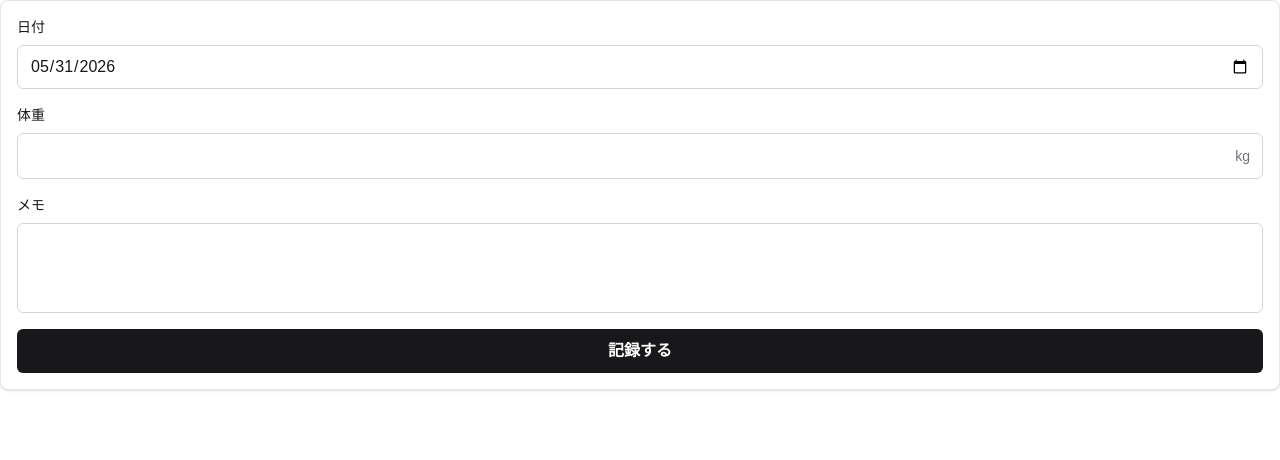
Test: WeightRecordRegistrationForm › saves a weight record on submit
Type "2026-05-30" into the date field labelled "日付" at coordinates (640, 67), box [17,45,1263,89]
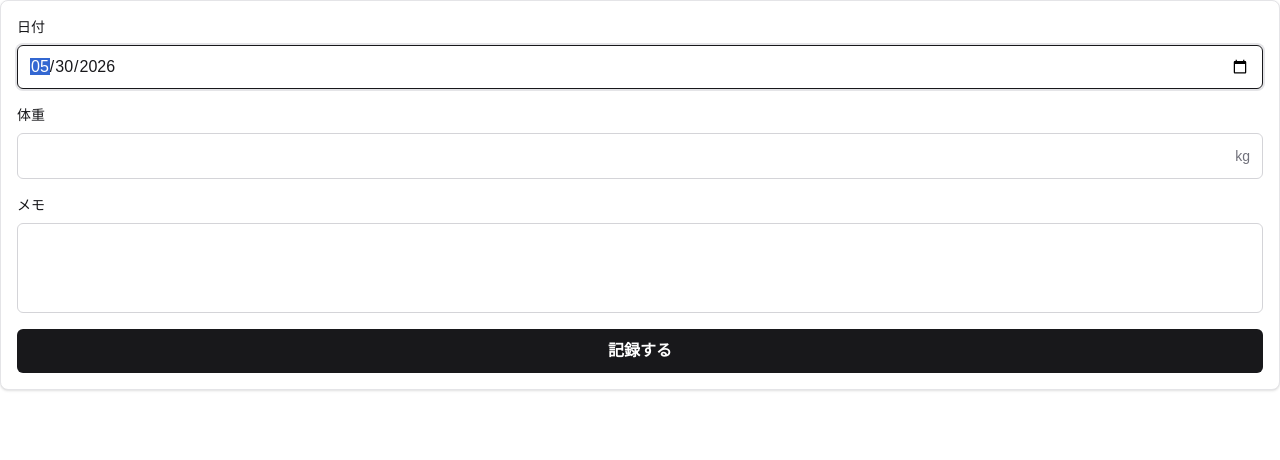
Type "80.1" into the number field labelled "体重" at coordinates (627, 156), box [18,134,1235,178]
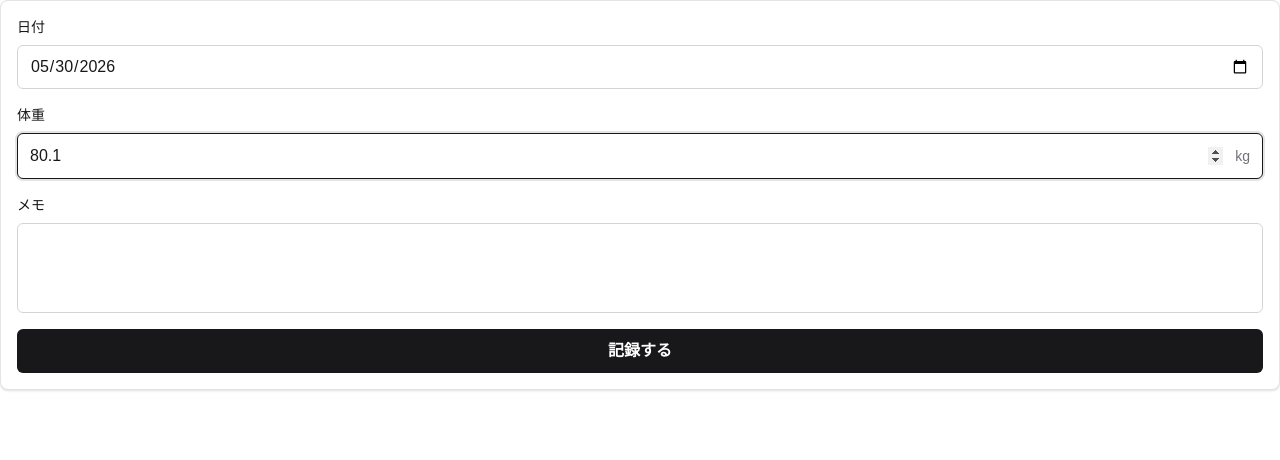
Type "朝食前" into the text box labelled "メモ" at coordinates (640, 268), box [17,223,1263,313]
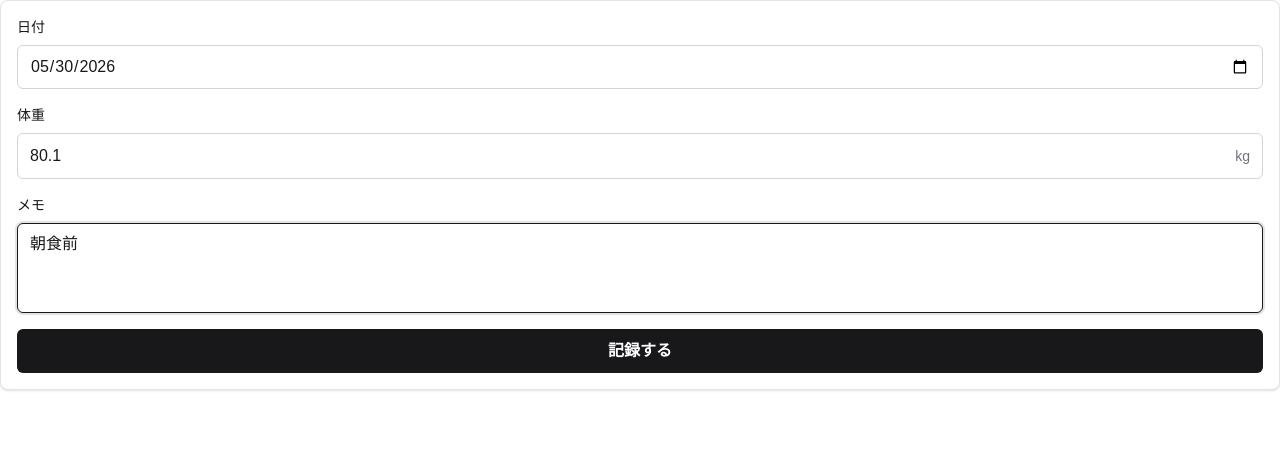
Click the button "記録する" at coordinates (640, 351), box [17,329,1263,373]
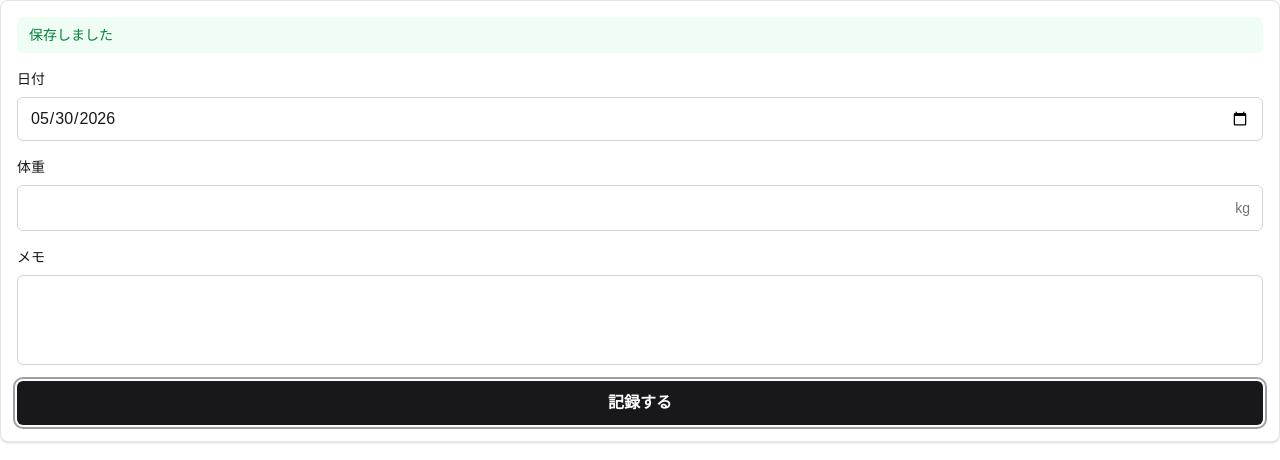
Now the text "保存しました" is shown, box [17,17,1263,53]
